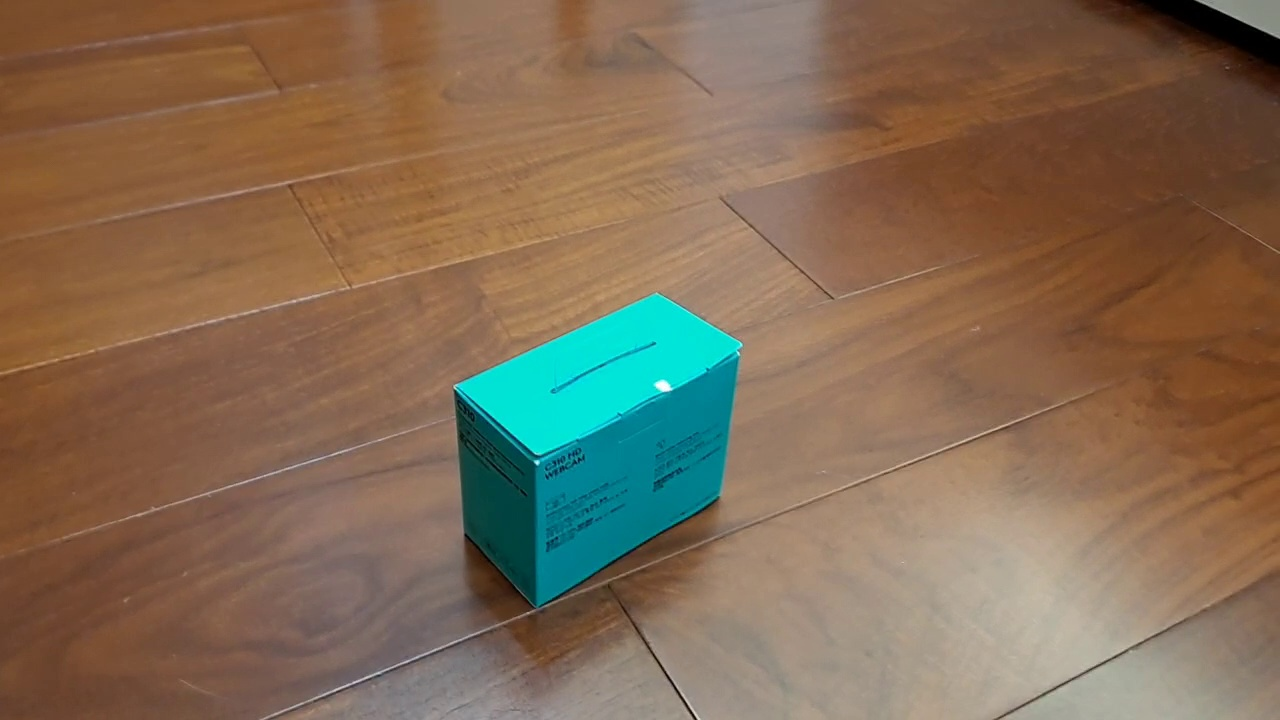webcam: (451, 291, 745, 610)
